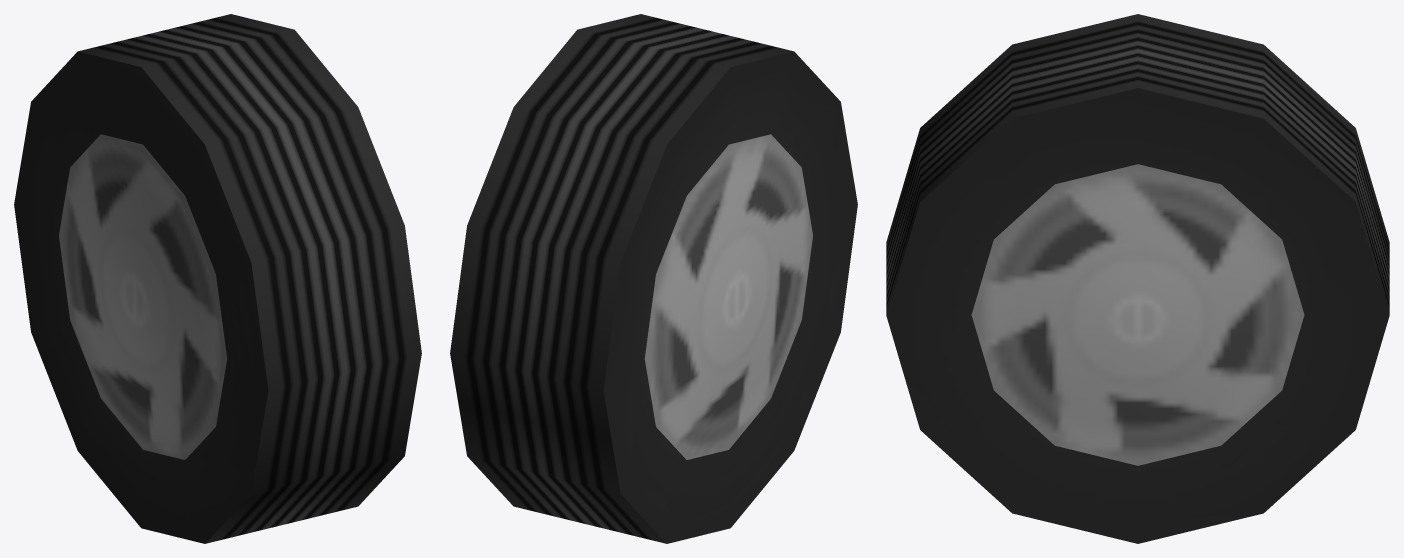
File: ZxiSCovetWheel.fbx
The picture shows the model from 3 angles, left to right: view 1: azimuth 30°, elevation 25°; view 2: azimuth 150°, elevation 25°; view 3: azimuth 270°, elevation 25°; orthographic projection.
Parts seen in each view (by area): view 1: WheelCovetA; view 2: WheelCovetA; view 3: WheelCovetA.
Boxes of the visible parts, <box> form: WheelCovetA: <box>14,14,421,543</box>; WheelCovetA: <box>450,14,857,543</box>; WheelCovetA: <box>886,14,1389,543</box>.
Size of the model in its own units: 0.2353 by 0.6253 by 0.6253.
